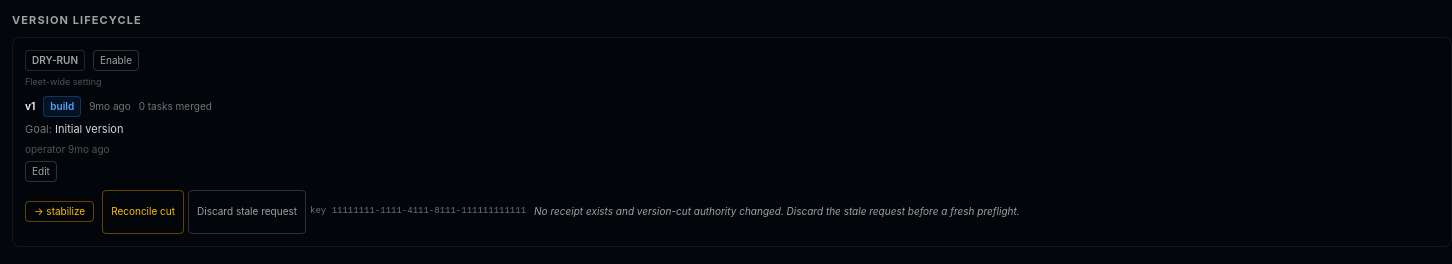
it: VersionLifecyclePanel › cut/abandon version › discards only a revalidated stale uncommitted request
Click the button with test id "version-cut-stale-discard".
click(247, 212)  # box 188,190 -> 306,234
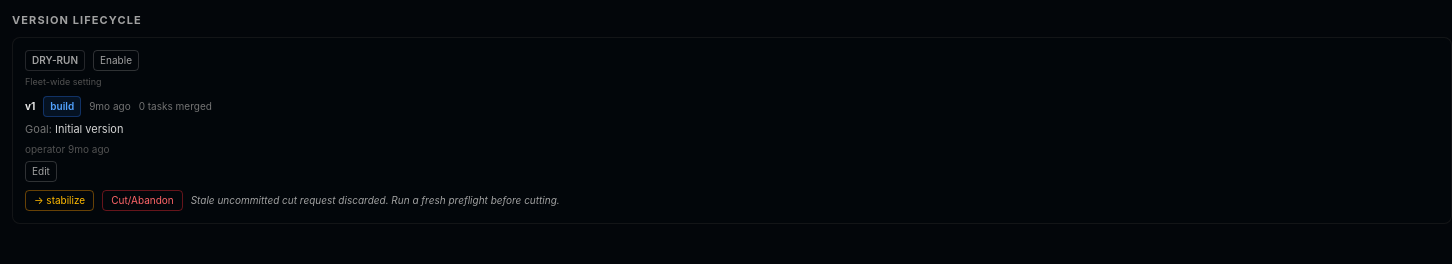
Expected: the text "Stale uncommitted cut request discarded" is shown, 191,194 -> 560,206
